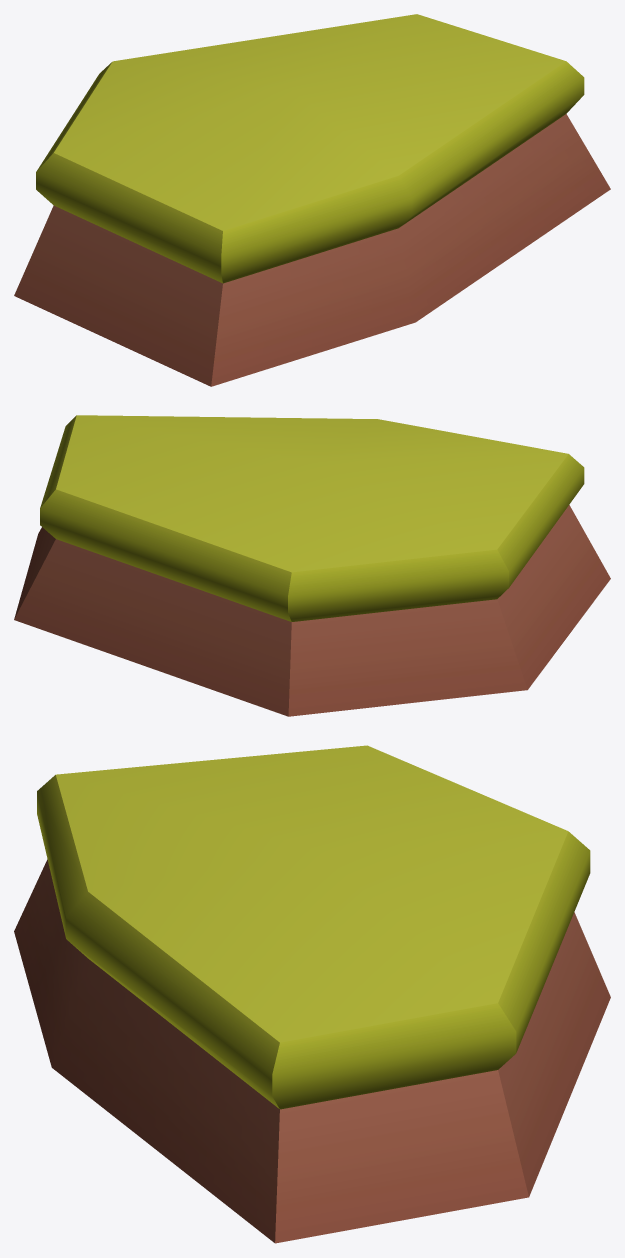
File: kaykit-medieval-hexagon-pack-hill-single-a.glb
3 views of the same model, one above another, from view 1: azimuth 30°, elevation 25°; view 2: azimuth 150°, elevation 25°; view 3: azimuth 270°, elevation 25° (orthographic). The views are drawn at different scales.
Visible parts, largest first — view 1: hill_single_A; view 2: hill_single_A; view 3: hill_single_A.
Part boxes in pixels (x1,y1,x2,y2): hill_single_A: [14, 14, 610, 386]; hill_single_A: [14, 415, 610, 716]; hill_single_A: [14, 745, 610, 1243].
Size of the model in its own units: 1.11 by 0.3073 by 0.8094.
1 material, 1 textured.
